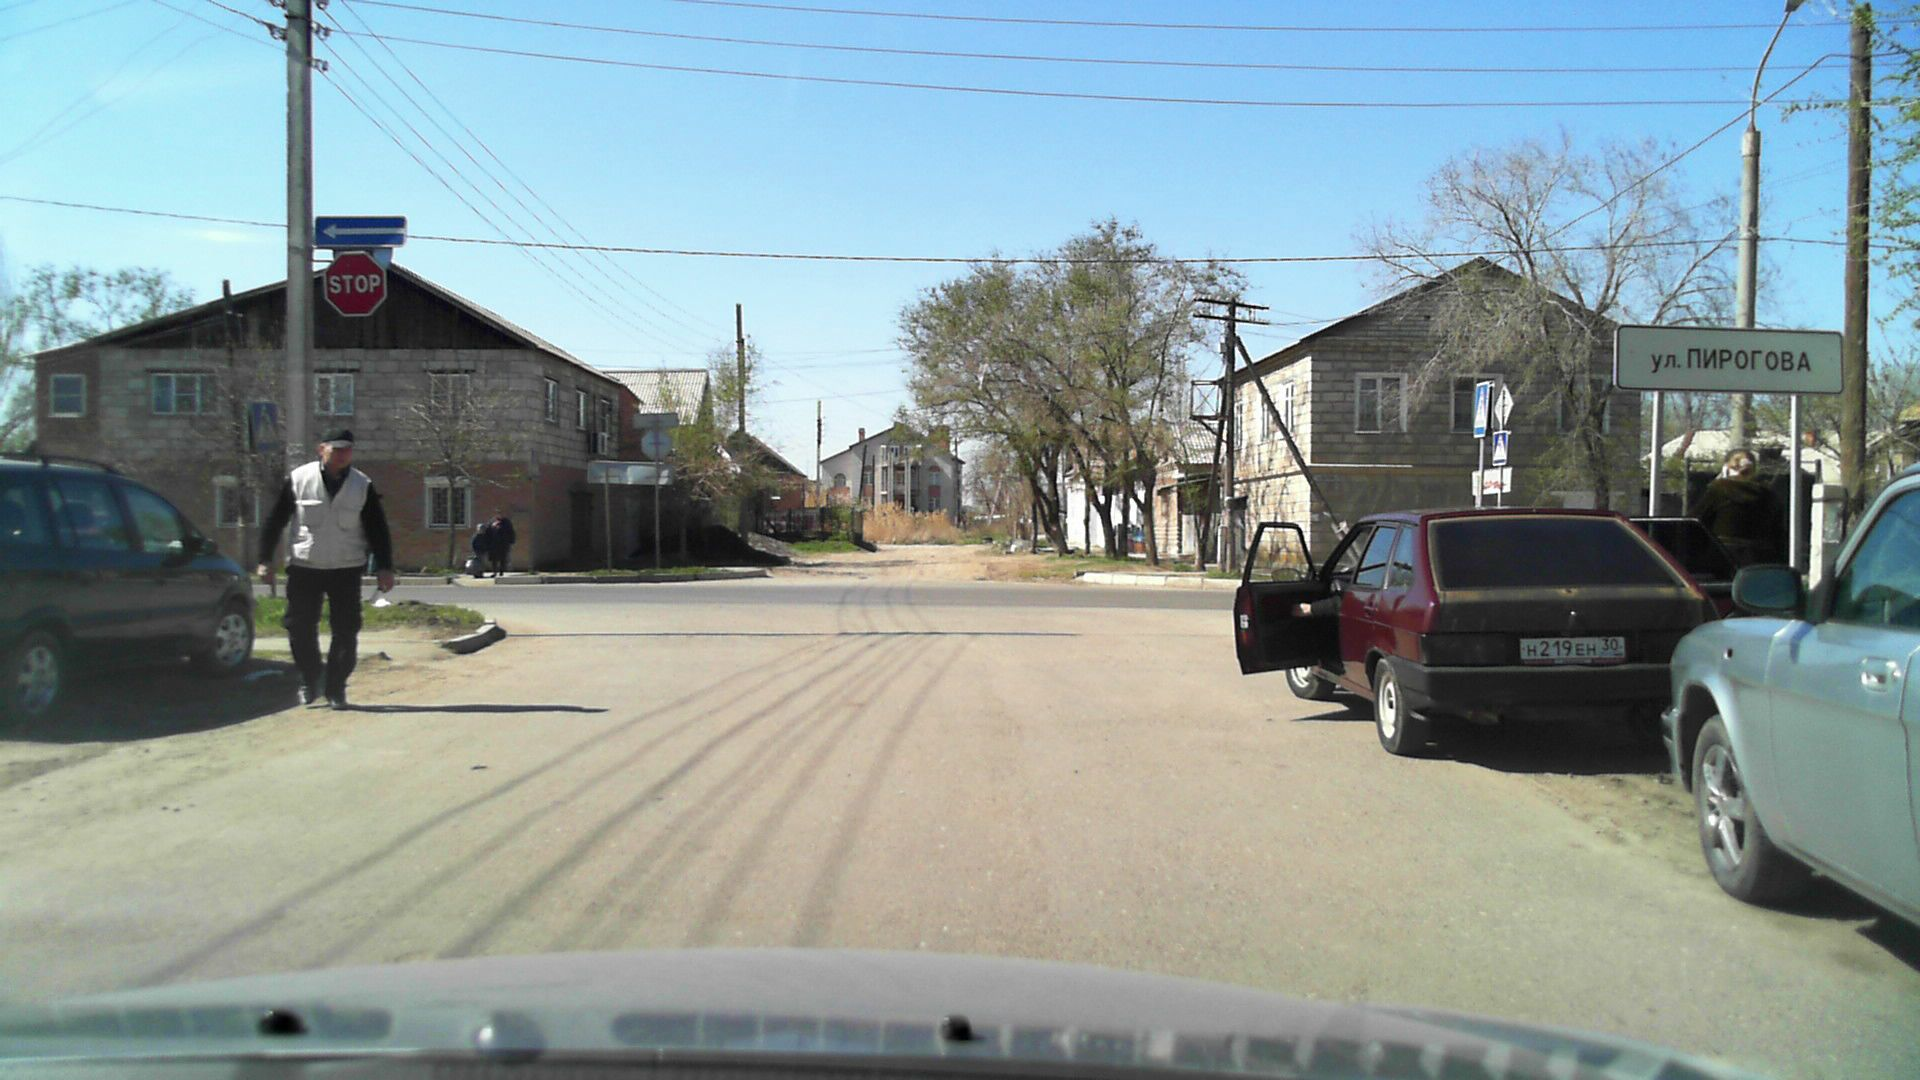One-Way Traffic: (316, 215, 406, 247)
